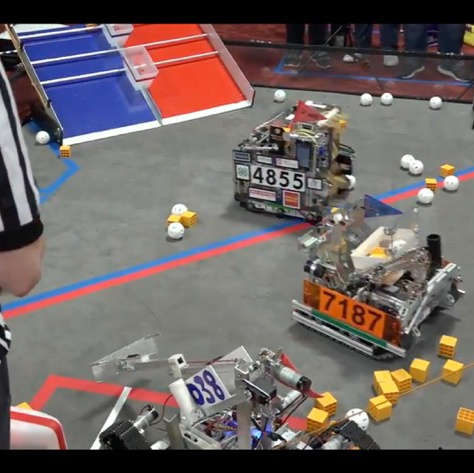robot: (88, 329, 385, 450), (290, 211, 468, 359), (229, 95, 356, 227)
